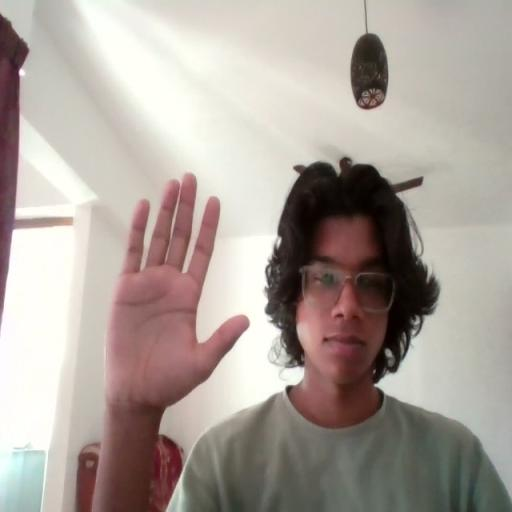Paper: (102, 169, 251, 410)
